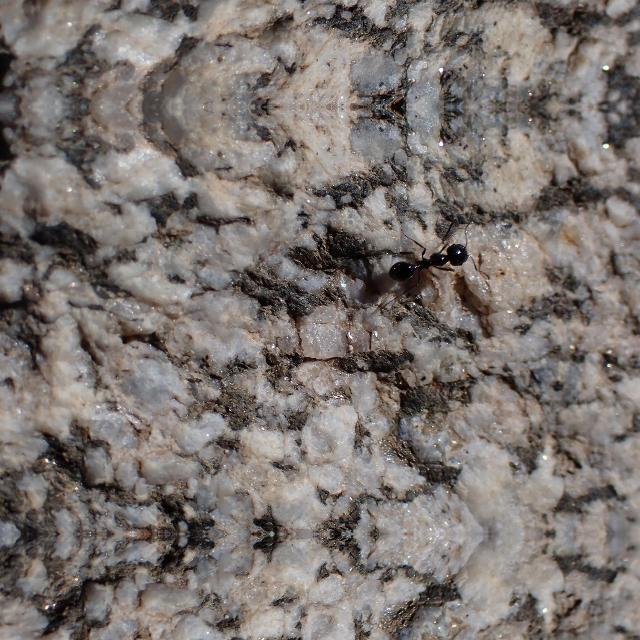Messor: (375, 224, 475, 292)
